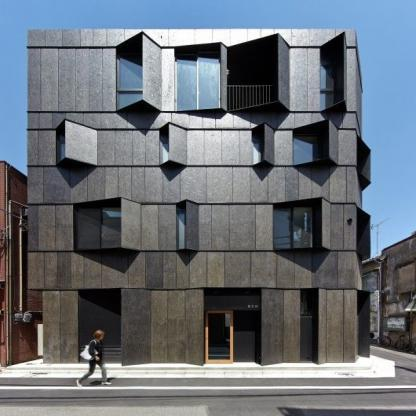Balcony: (229, 86, 279, 112)
Building Outline: (27, 29, 371, 366)
Deco: (247, 305, 259, 309)
Door: (78, 290, 121, 362), (205, 310, 233, 363)
Facade: (27, 29, 372, 366)
Floor Slab: (27, 112, 355, 128), (27, 187, 355, 203), (27, 272, 355, 287)
Window: (227, 33, 279, 112), (174, 42, 221, 111), (176, 48, 220, 110), (72, 197, 122, 251), (273, 197, 322, 251), (116, 31, 143, 110), (77, 206, 126, 249), (320, 31, 345, 111), (119, 48, 149, 110), (293, 119, 329, 165), (275, 206, 312, 249), (293, 129, 320, 165), (320, 48, 333, 110), (177, 206, 195, 249), (164, 129, 185, 165), (255, 129, 276, 165), (60, 129, 81, 165), (252, 123, 265, 165), (177, 199, 186, 251), (159, 123, 170, 165), (56, 118, 65, 165)
